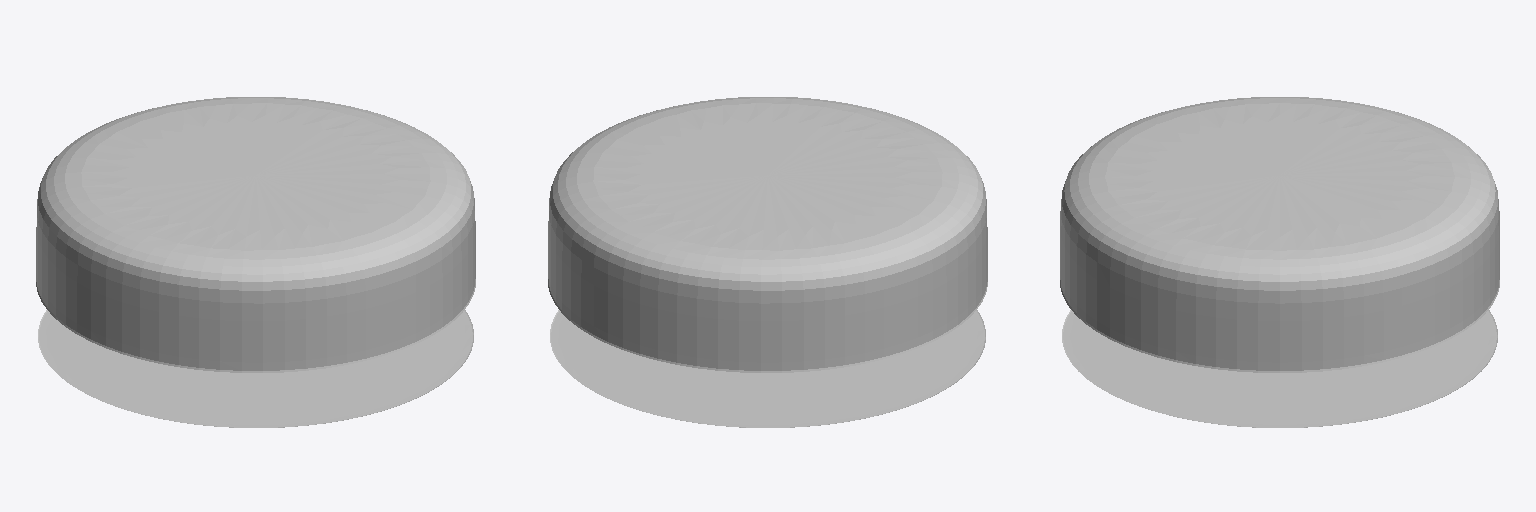
File: Bottom.obj
The picture shows the model from 3 angles: view 1: azimuth 30°, elevation 25°; view 2: azimuth 150°, elevation 25°; view 3: azimuth 270°, elevation 25°; orthographic projection.
Visible parts, largest first — view 1: 000_Buffer_Layer_1; view 2: 000_Buffer_Layer_1; view 3: 000_Buffer_Layer_1.
Boxes of the visible parts, <box> form: 000_Buffer_Layer_1: <box>36,97,475,427</box>; 000_Buffer_Layer_1: <box>548,97,987,427</box>; 000_Buffer_Layer_1: <box>1060,97,1499,427</box>.
Bounding box in the file's own units: 87.2 × 35.16 × 87.2.